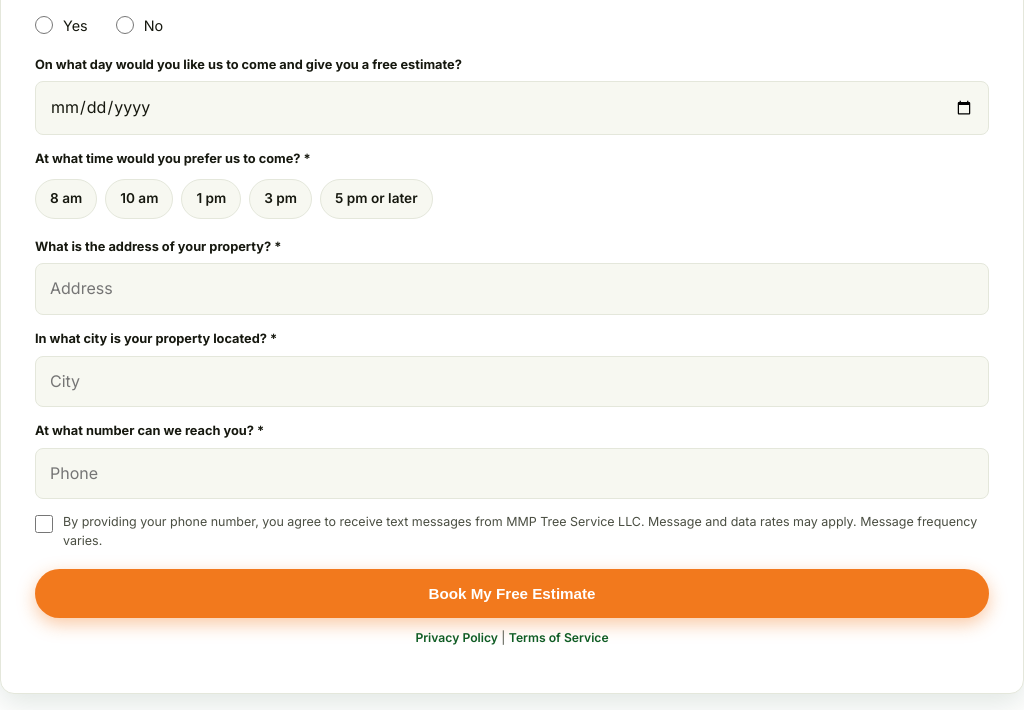
Test case: EstimateForm › shows errors and does not submit when required answers are missing
(page scrolled)
Step 1. Click the button "Book My Free Estimate" → (512,593), box [35, 569, 989, 618]
(page scrolled)
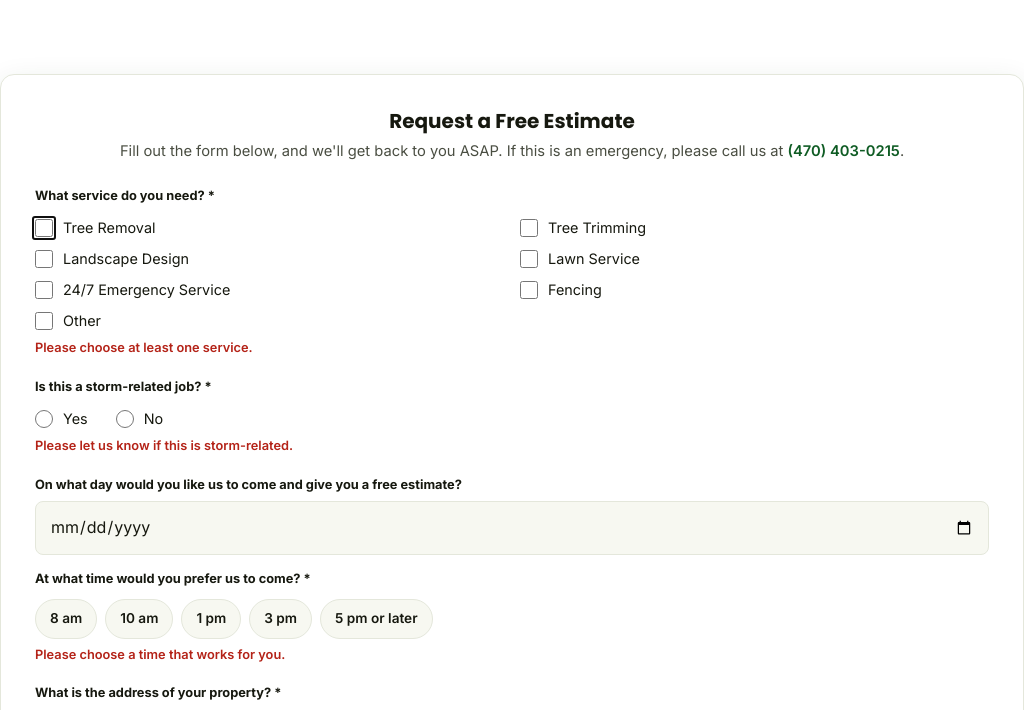
Expected: the text "Please choose at least one service." is shown, [35, 340, 253, 355]
